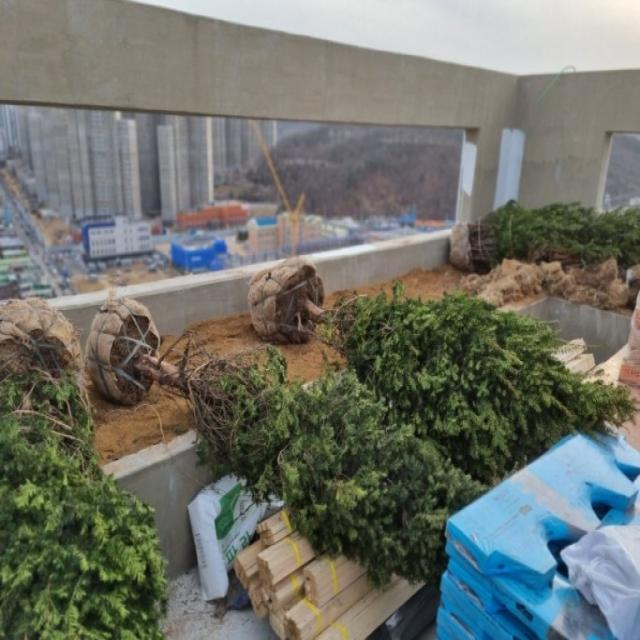plant: (85, 297, 493, 586), (247, 258, 640, 485), (0, 298, 169, 640), (449, 198, 640, 272)
wood: (314, 575, 425, 640), (284, 575, 370, 640), (258, 530, 318, 586), (303, 555, 365, 606), (262, 568, 304, 610), (232, 540, 264, 590), (270, 595, 304, 640), (257, 508, 297, 546), (248, 577, 270, 621)
